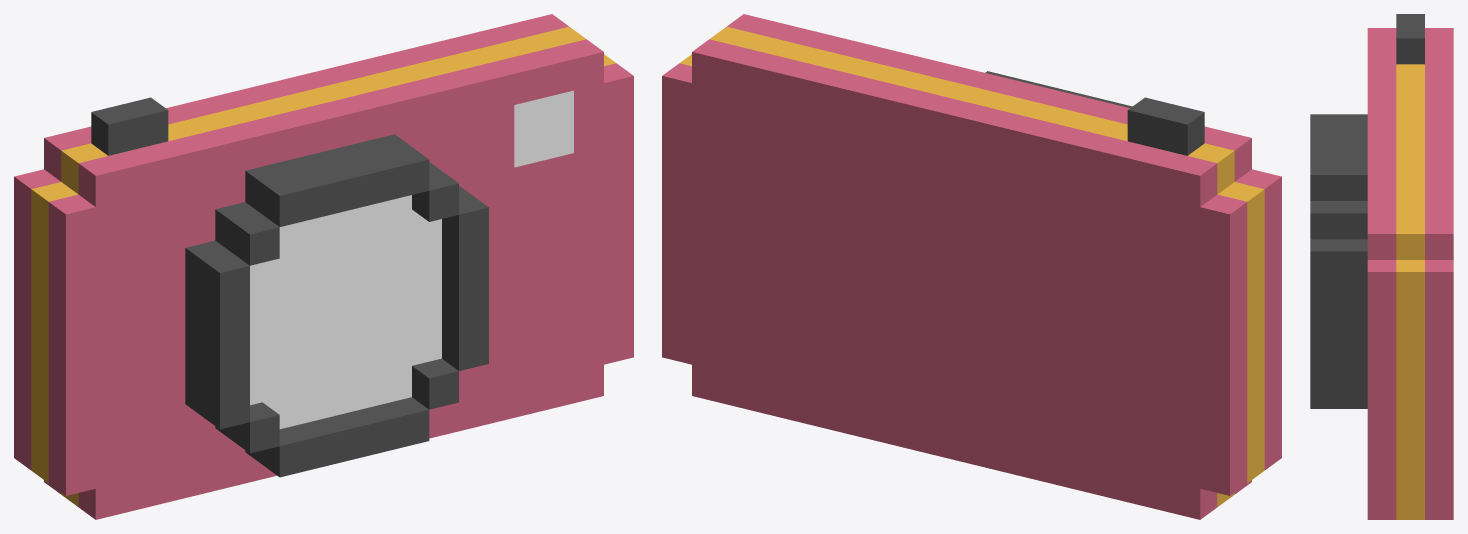
The model's file is camera.glb.
3 views of the same model, side by side, from view 1: azimuth 30°, elevation 25°; view 2: azimuth 150°, elevation 25°; view 3: azimuth 270°, elevation 25° (orthographic). The views are drawn at different scales.
Visible parts, largest first — view 1: Object_2; view 2: Object_2; view 3: Object_2.
Boxes of the visible parts, x1,y1,x2,y2 form: Object_2: [14, 14, 633, 519]; Object_2: [662, 14, 1281, 519]; Object_2: [1310, 14, 1453, 519].
Bounding box in the file's own units: 19 × 12 × 5.
1 material, 1 textured.
